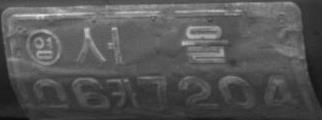0: (219, 73, 258, 111), (32, 75, 67, 113)
2: (176, 72, 219, 110)
4: (262, 73, 299, 114)
6: (70, 74, 111, 111)
7: (140, 74, 171, 113)
서울_D: (75, 23, 229, 64)
영: (25, 28, 62, 66)
카: (111, 76, 139, 112)
